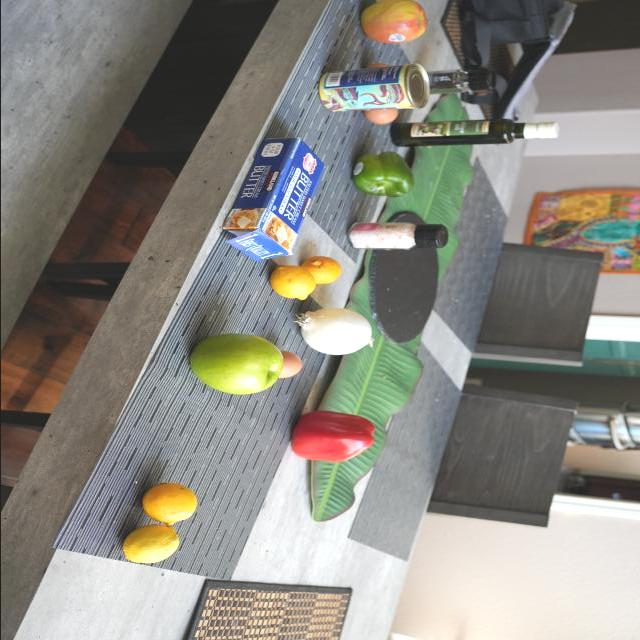bell_pepper: (285, 413, 379, 467), (352, 151, 416, 203), (418, 64, 494, 98)
egg: (364, 105, 401, 125), (283, 354, 301, 380)
onion: (293, 307, 375, 359)
